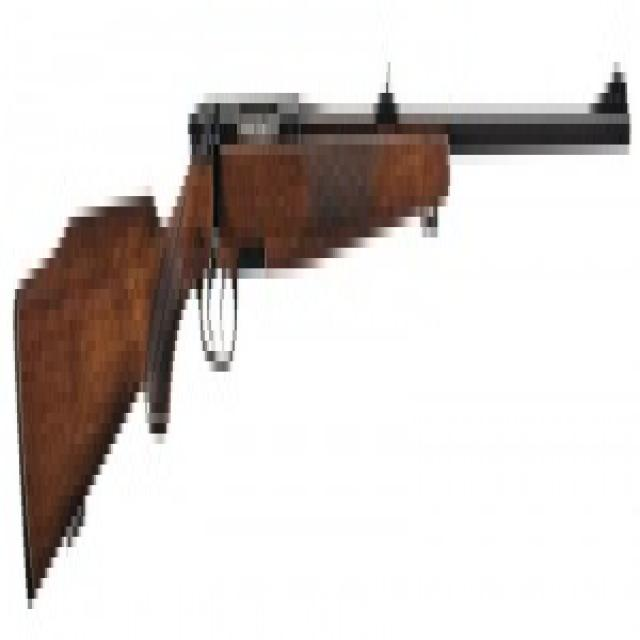rifle: (8, 46, 634, 618)
